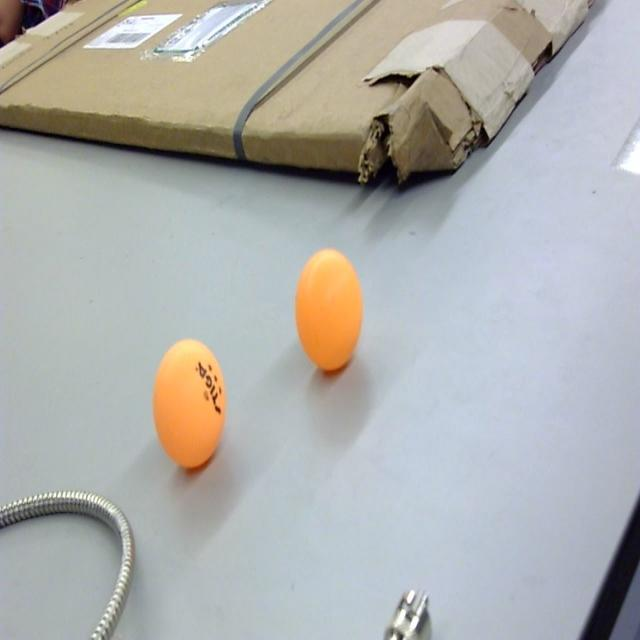ball: (152, 340, 228, 474), (294, 247, 363, 373)
